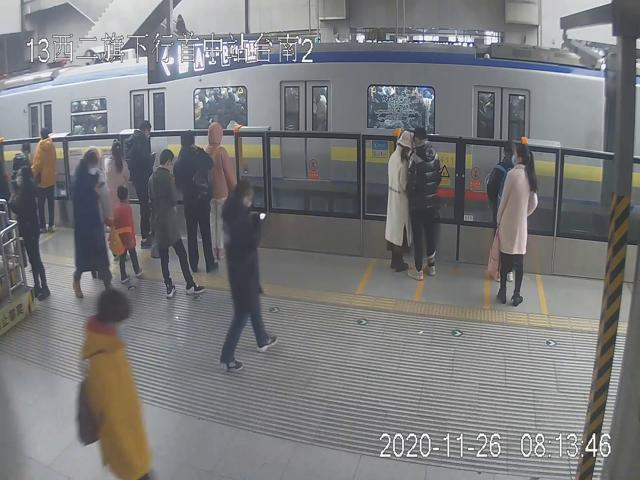person: (222, 180, 279, 373), (149, 148, 205, 296), (172, 128, 219, 273), (497, 142, 538, 306), (71, 150, 116, 298), (8, 166, 49, 300), (410, 128, 444, 280), (125, 122, 162, 248), (203, 122, 237, 259), (386, 130, 414, 273), (31, 124, 61, 233), (113, 183, 145, 283), (101, 139, 131, 221), (10, 138, 35, 191)
